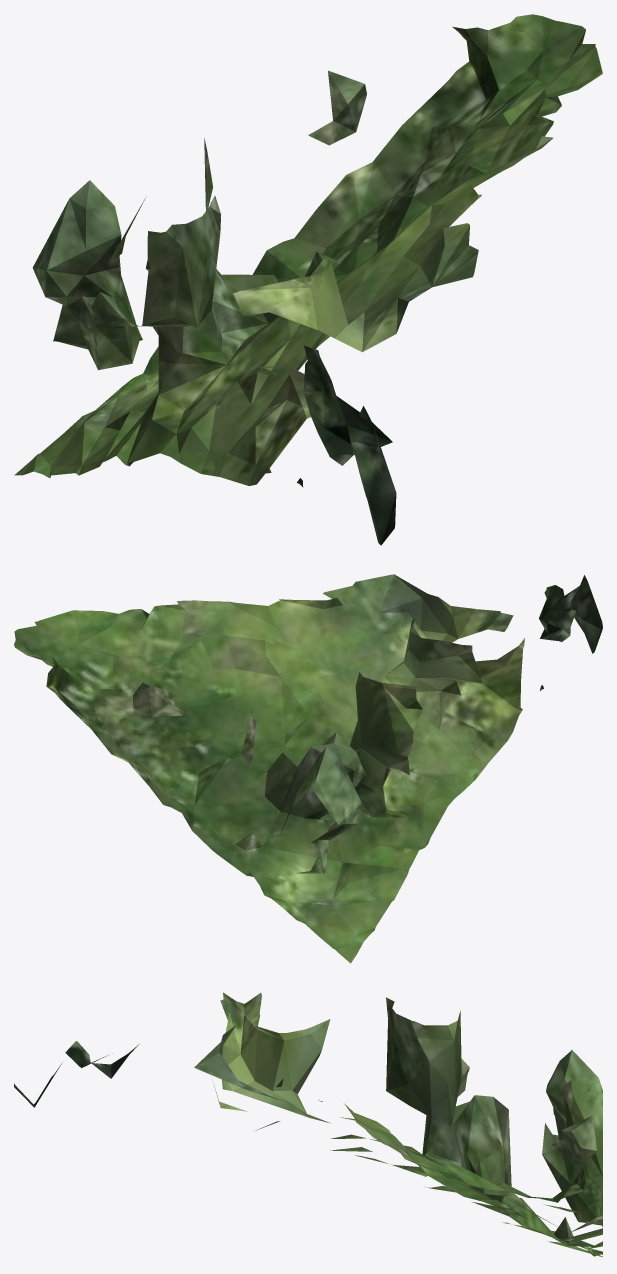
The picture shows the model from 3 angles, top to bottom: view 1: azimuth 30°, elevation 25°; view 2: azimuth 150°, elevation 25°; view 3: azimuth 270°, elevation 25°; orthographic projection. The views are drawn at different scales.
Bounding box in the file's own units: 28.08 × 17.16 × 34.29.
Materials: 1 (1 with a texture image).
